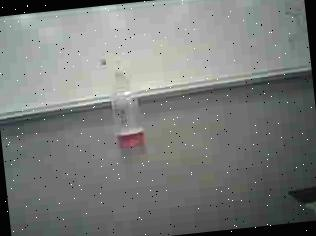hazard: (95, 52, 150, 155)
